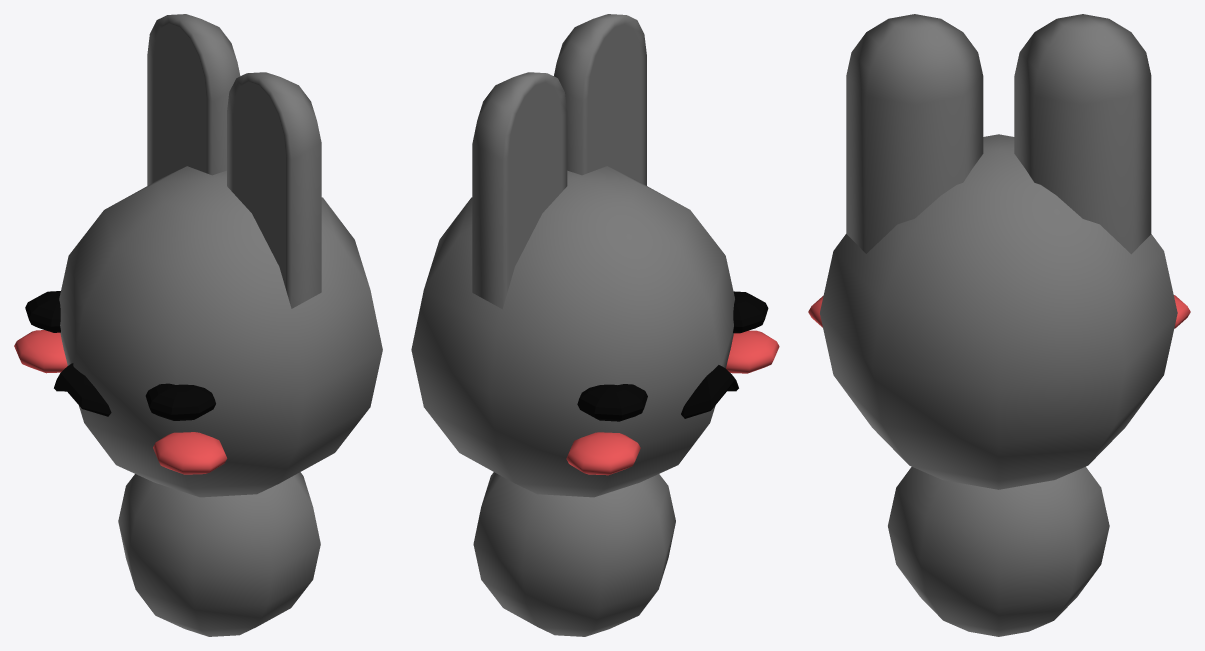
File: NeutralBun_Gray.fbx
The picture shows the model from 3 angles, left to right: view 1: azimuth 30°, elevation 25°; view 2: azimuth 150°, elevation 25°; view 3: azimuth 270°, elevation 25°; orthographic projection. The views are drawn at different scales.
Parts seen in each view (by area): view 1: NeutralBun_Gray; view 2: NeutralBun_Gray; view 3: NeutralBun_Gray.
Part boxes in pixels (x1=…): NeutralBun_Gray: x1=14, y1=14, x2=382, y2=636; NeutralBun_Gray: x1=411, y1=14, x2=779, y2=636; NeutralBun_Gray: x1=808, y1=14, x2=1190, y2=636.
Bounding box in the file's own units: 106 × 191 × 108.
